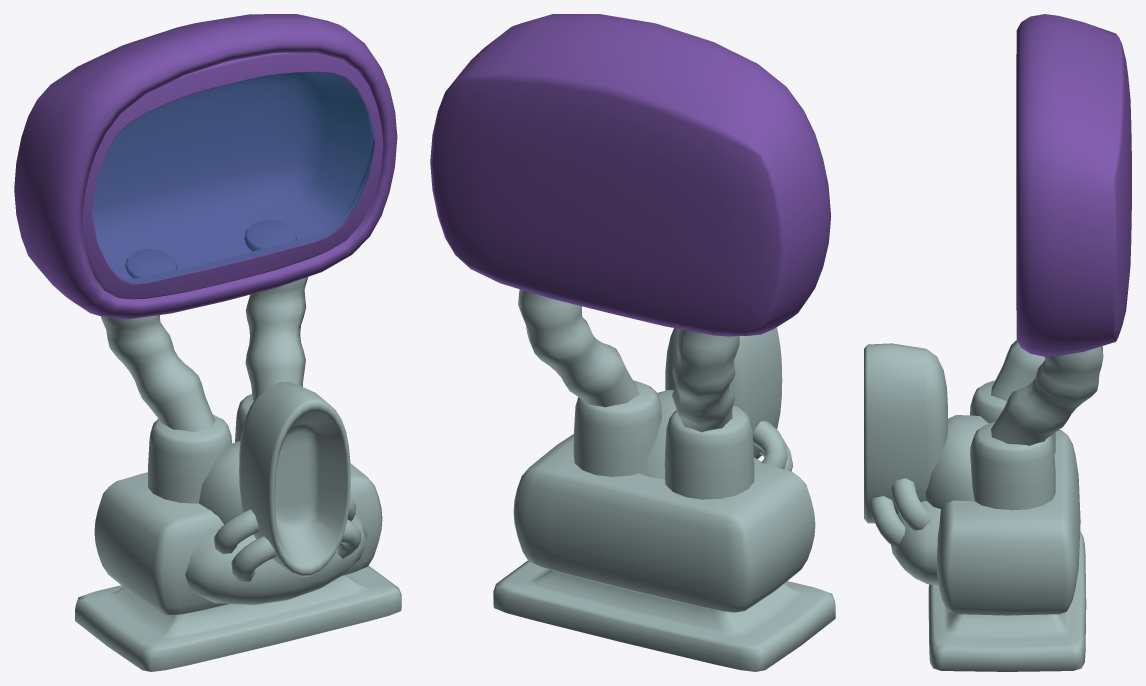
The model's file is Appliances_Capsule_Filler.fbx.
3 views of the same model, side by side, from view 1: azimuth 30°, elevation 25°; view 2: azimuth 150°, elevation 25°; view 3: azimuth 270°, elevation 25° (orthographic). The views are drawn at different scales.
Visible parts, largest first — view 1: Net, Base, Force_Field; view 2: Net, Base; view 3: Base, Net.
Part boxes in pixels (x1,y1,x2,y2): Net: (14, 14, 397, 319); Base: (75, 277, 401, 671); Force_Field: (92, 72, 374, 283); Net: (430, 14, 831, 336); Base: (493, 289, 835, 671); Base: (864, 340, 1103, 671); Net: (1016, 14, 1131, 356).
Size of the model in its own units: 180 by 283 by 122.
